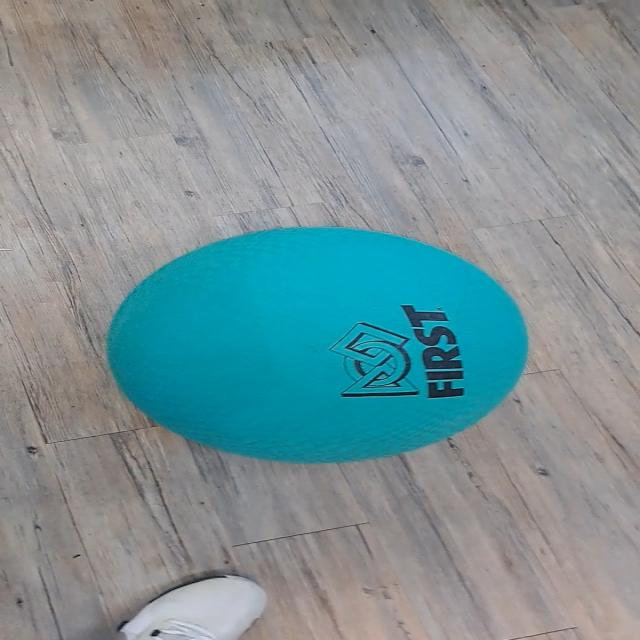ALGAE: (103, 225, 531, 464)
